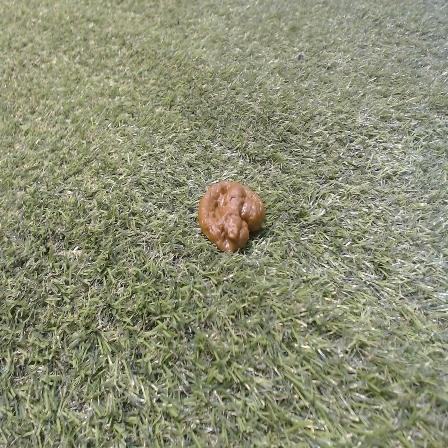dog-poop: (195, 181, 268, 253)
